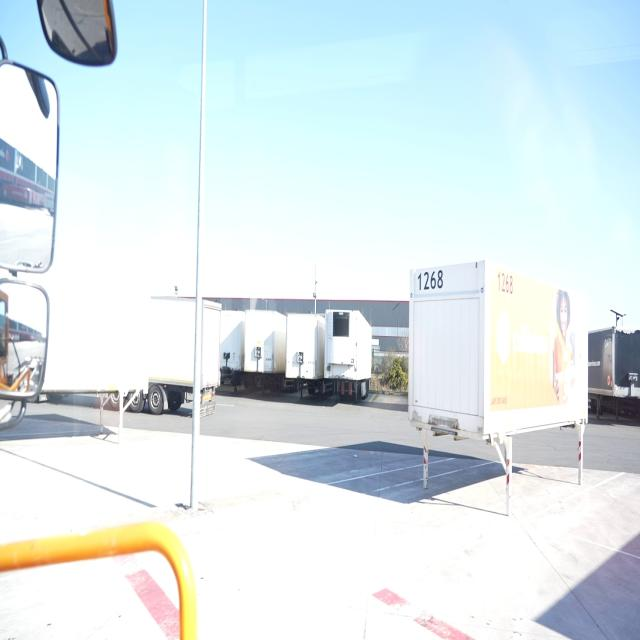Code: (414, 266, 448, 296), (494, 264, 516, 296)
